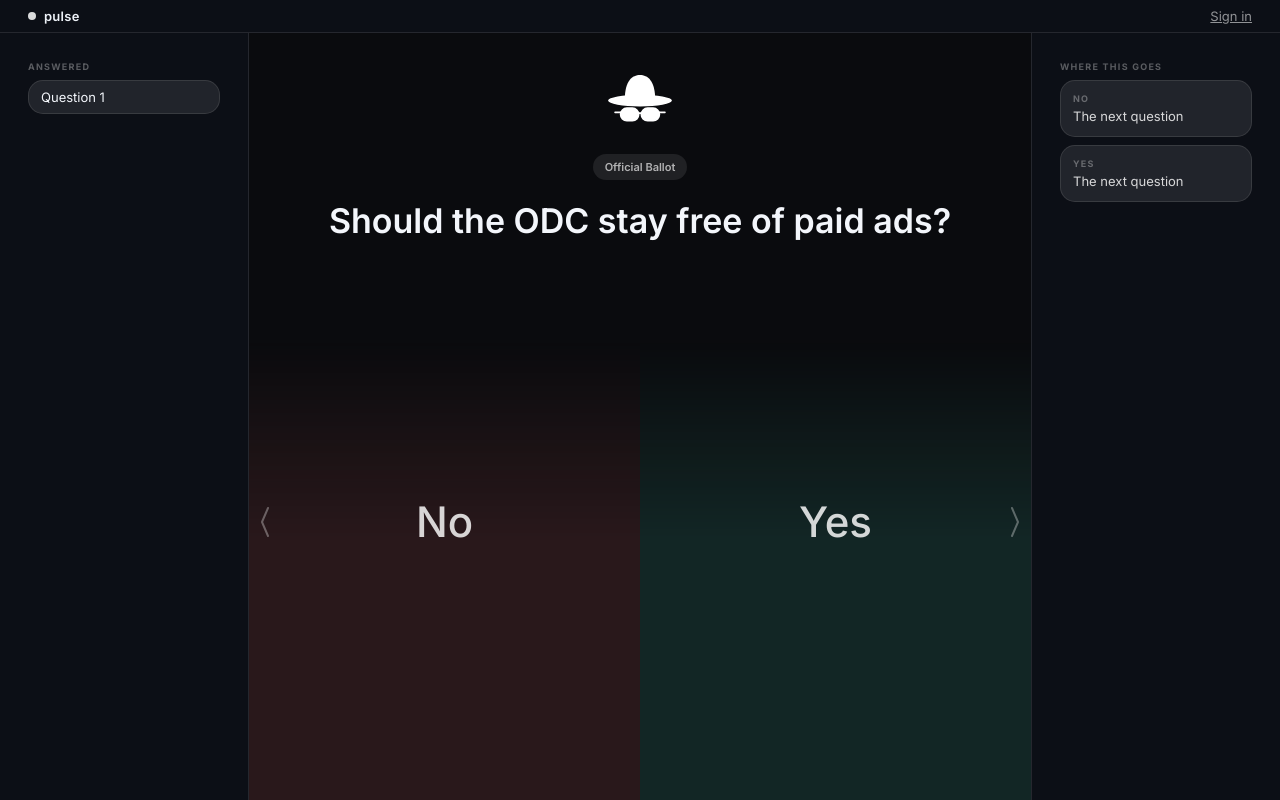
Scenario: going back › offers a way back once a question has been walked past
The image size is (1280, 800).
Expected: the heading "Should the ODC stay free of paid ads?" is shown, [329, 198, 951, 244]
Press ArrowRight in the button "Yes", box [640, 244, 1031, 799]
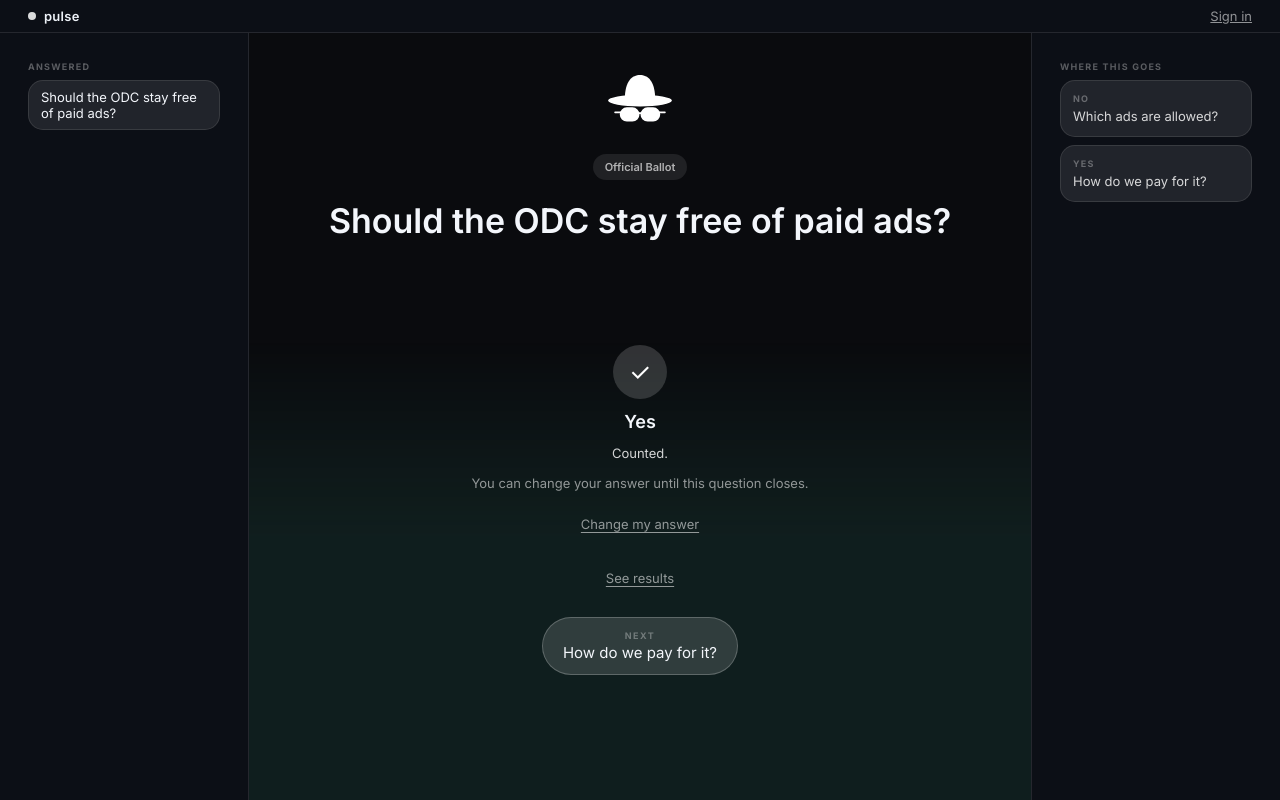
Click the button "NEXT How do we pay for it?".
click(640, 646)  # box [542, 617, 738, 675]
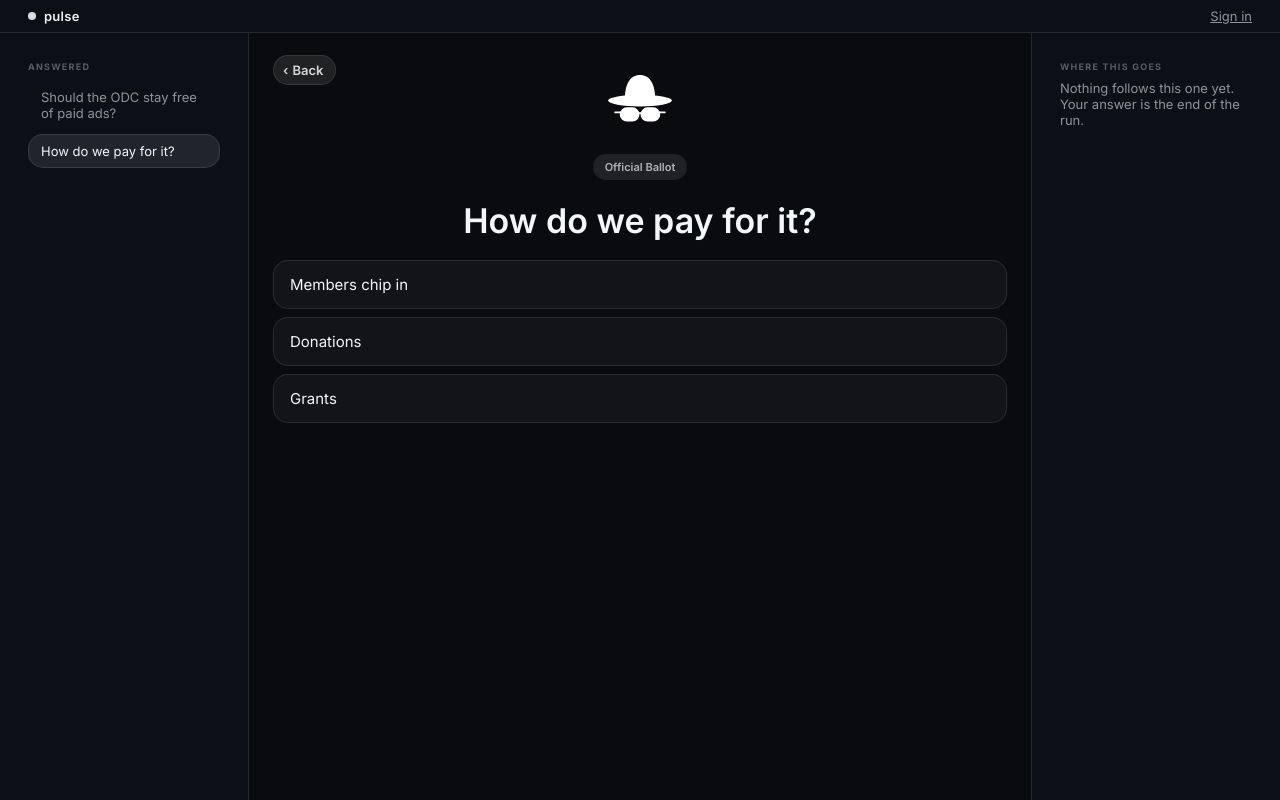
Result: the text "How do we pay for it?" is shown at [28, 134, 220, 168]
Result: the button "‹ Back" is shown at [273, 55, 336, 85]
